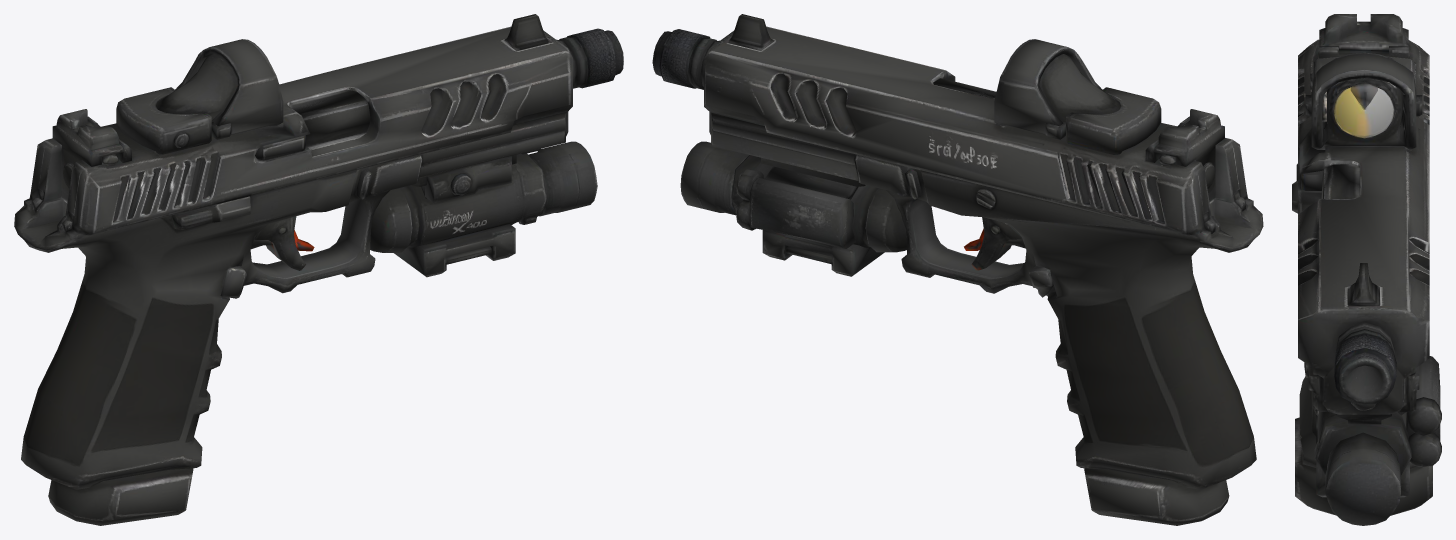
Rendered from 019e328f-09a1-7cbe-97d3-5792d7a5eb7f.glb.
3 views of the same model, side by side, from view 1: azimuth 30°, elevation 25°; view 2: azimuth 150°, elevation 25°; view 3: azimuth 270°, elevation 25° (orthographic). The views are drawn at different scales.
Visible parts, largest first — view 1: tripo_node_5007c4bb-6549-4237-8952-8f65bcec750b; view 2: tripo_node_5007c4bb-6549-4237-8952-8f65bcec750b; view 3: tripo_node_5007c4bb-6549-4237-8952-8f65bcec750b.
Boxes of the visible parts, x1,y1,x2,y2 form: tripo_node_5007c4bb-6549-4237-8952-8f65bcec750b: [14, 14, 623, 525]; tripo_node_5007c4bb-6549-4237-8952-8f65bcec750b: [652, 14, 1263, 525]; tripo_node_5007c4bb-6549-4237-8952-8f65bcec750b: [1292, 14, 1441, 525].
Size of the model in its own units: 0.998 by 0.7051 by 0.1934.
1 material, 1 textured.
